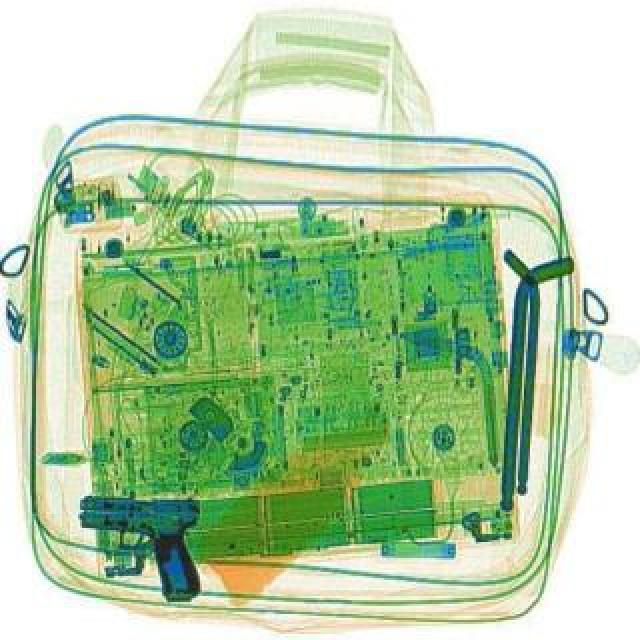gun: (70, 492, 206, 602)
